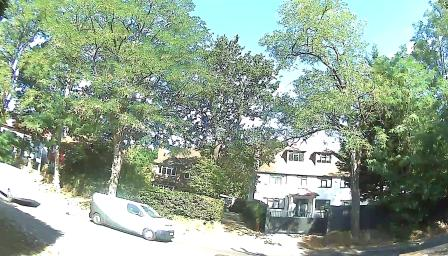Cars: (86, 189, 178, 244), (1, 161, 41, 210)
